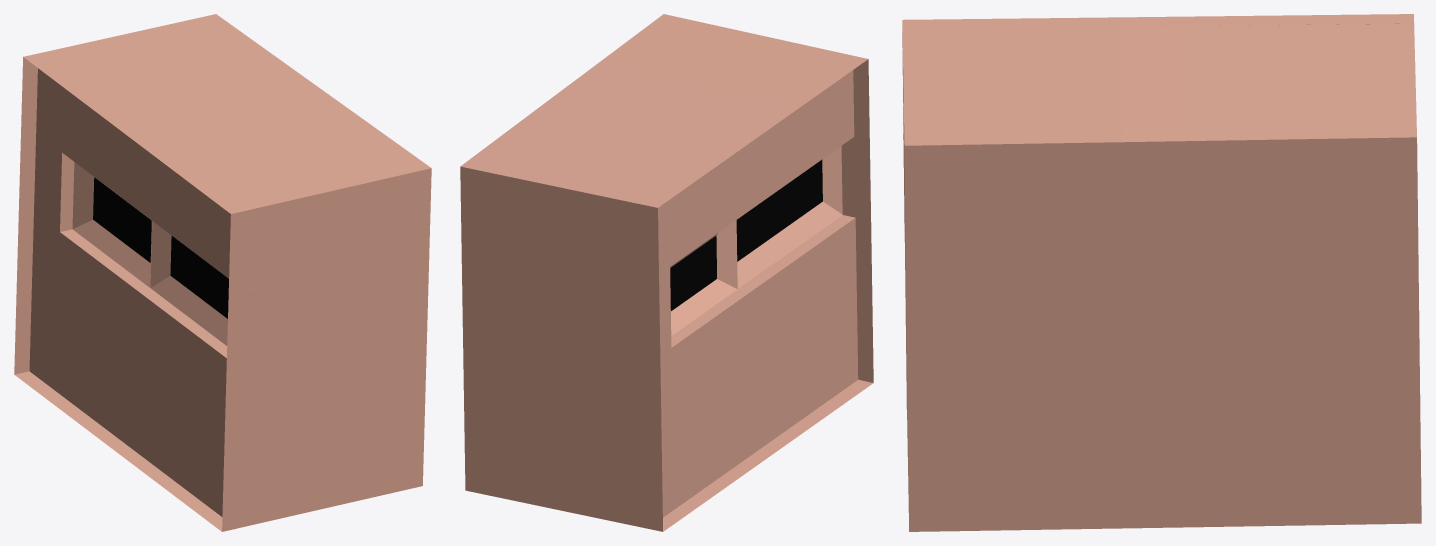
The model's file is Building_Seven.fbx.
3 renders of one model, left to right at view 1: azimuth 30°, elevation 25°; view 2: azimuth 150°, elevation 25°; view 3: azimuth 270°, elevation 25°, orthographic. The views are drawn at different scales.
Parts seen in each view (by area): view 1: Plane.001; view 2: Plane.001; view 3: Plane.001.
Boxes of the visible parts, x1,y1,x2,y2 form: Plane.001: (14, 14, 431, 531); Plane.001: (460, 14, 873, 531); Plane.001: (902, 14, 1421, 531).
Size of the model in its own units: 1486 by 2221 by 2605.
